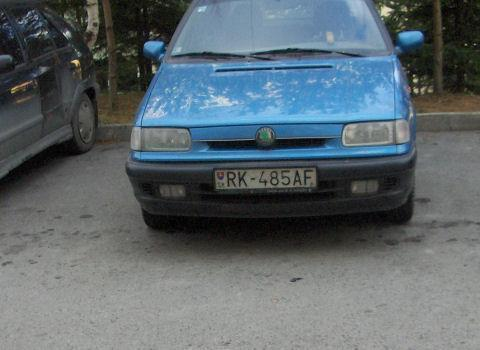placa de veiculo: (212, 157, 325, 210)
